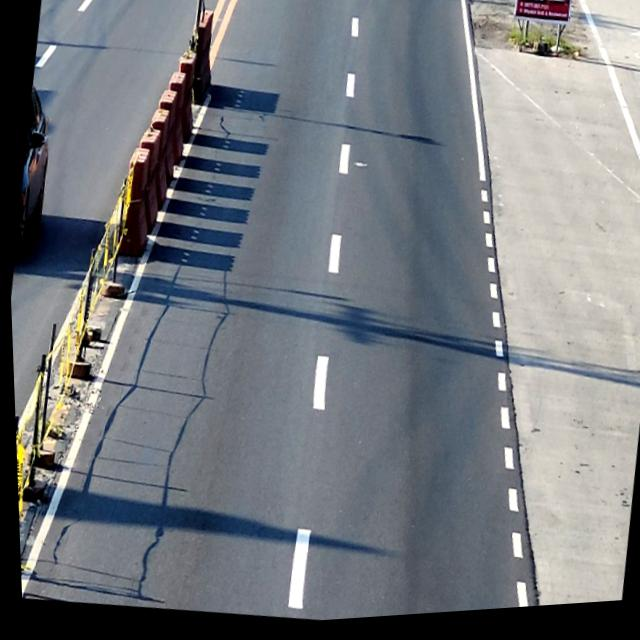Car: (9, 86, 61, 260)
